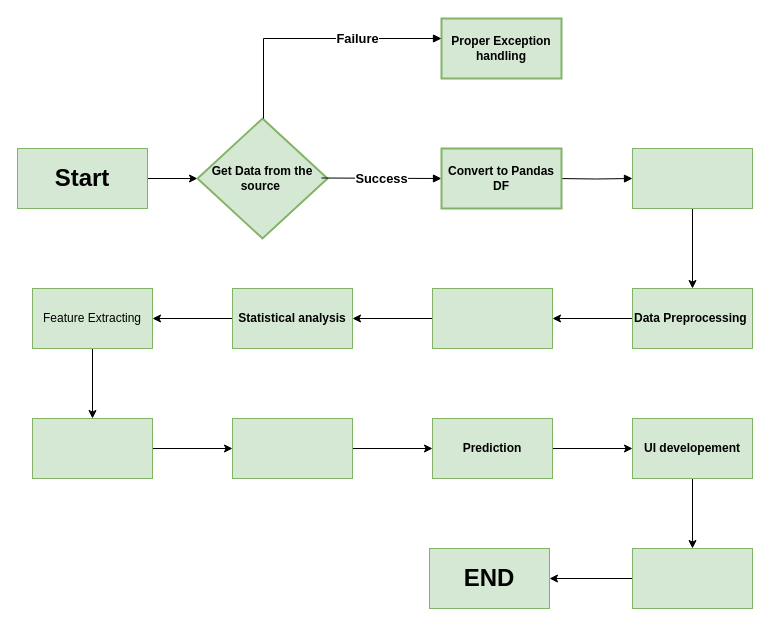
Some shapes in this 770 by 626 pixel diagram are drawn without their labels. Here are the shapes that lost their labels. From the top down, the centre of each, then its label:
At point 692,178: "Data Validatation".
At point 492,318: "Data Cleaning".
At point 92,448: "Model Training".
At point 292,448: "Model Validation".
At point 692,578: "Deployment".
